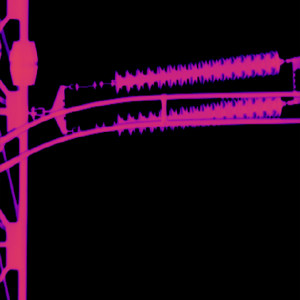insulator: (111, 50, 283, 93), (115, 91, 283, 134)
